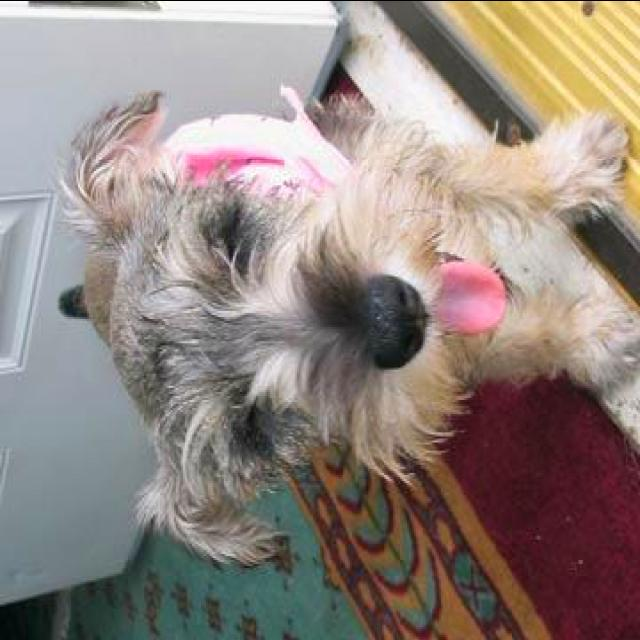standard_schnauzer: (53, 87, 633, 561)
